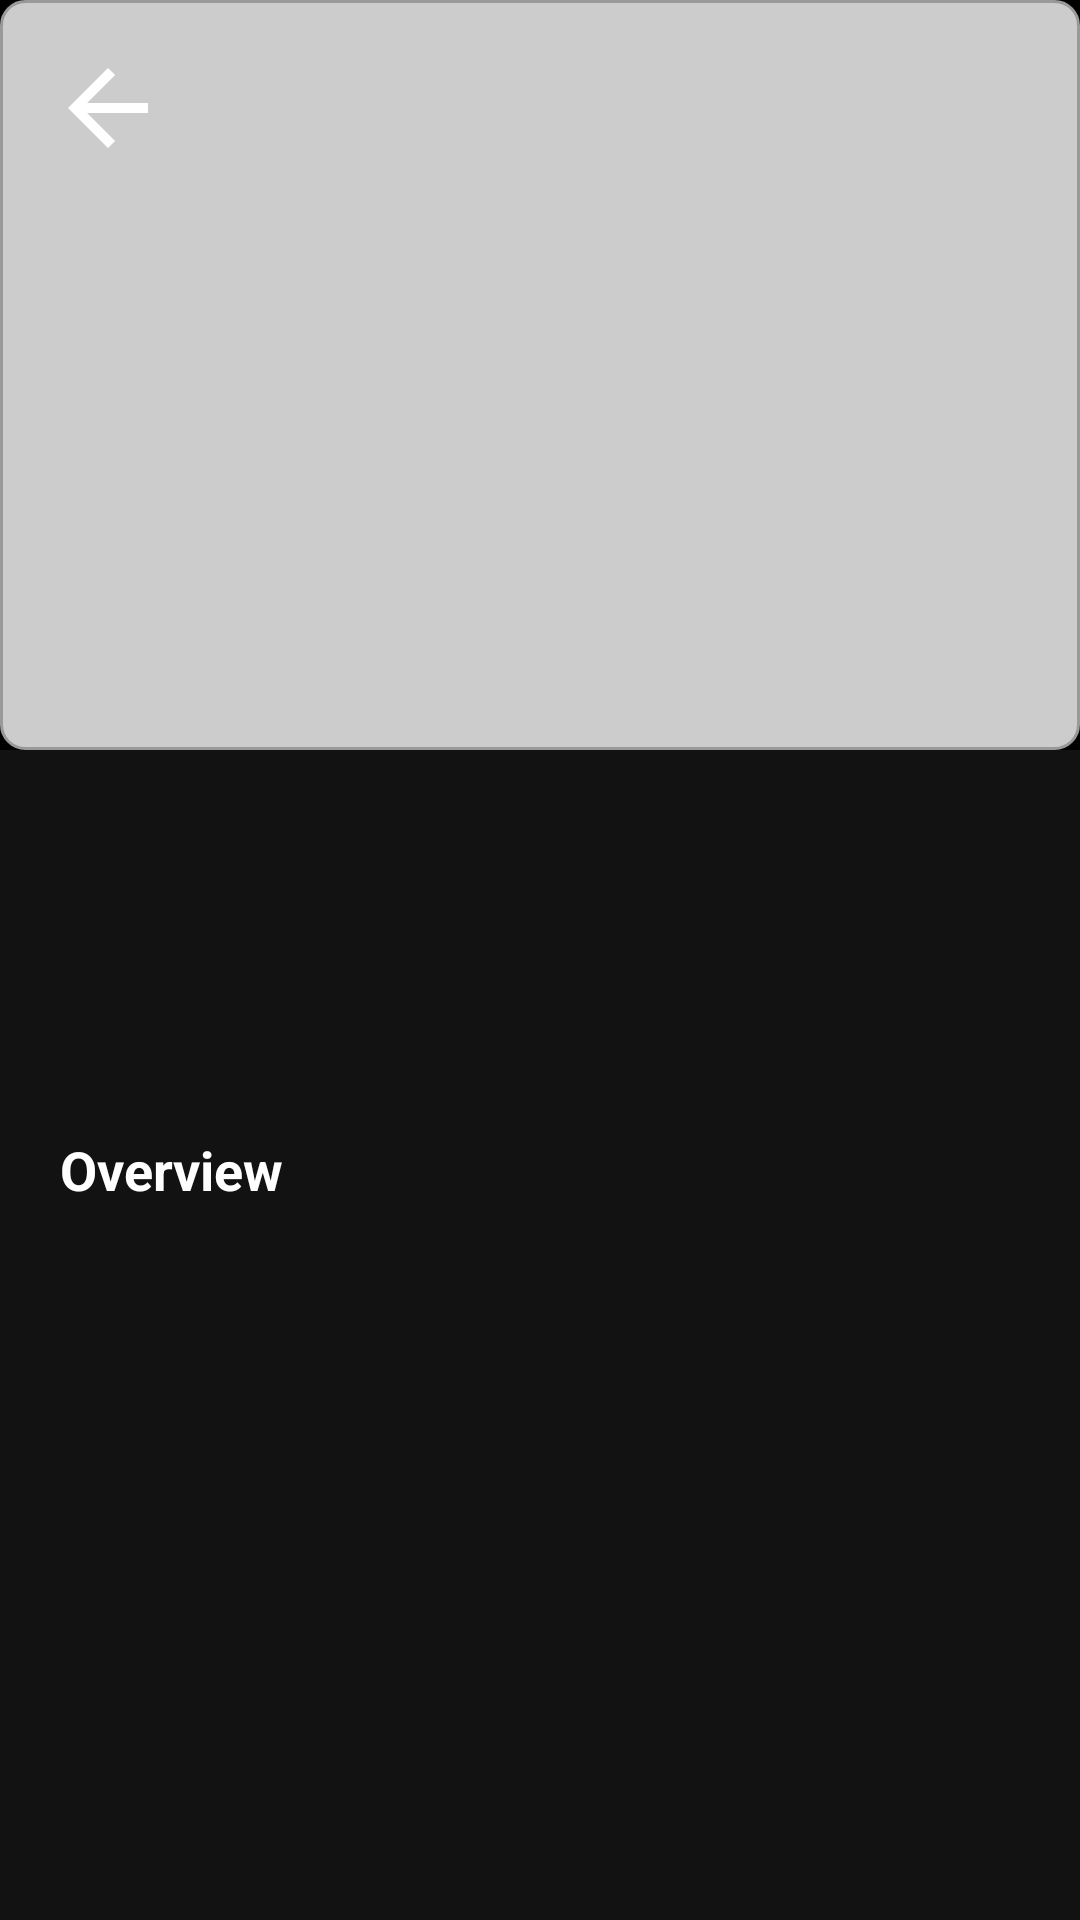

Icons on this 1080px x 1920px Android screen, each with the point to tap as (x,y):
arrow back: (108,108)
